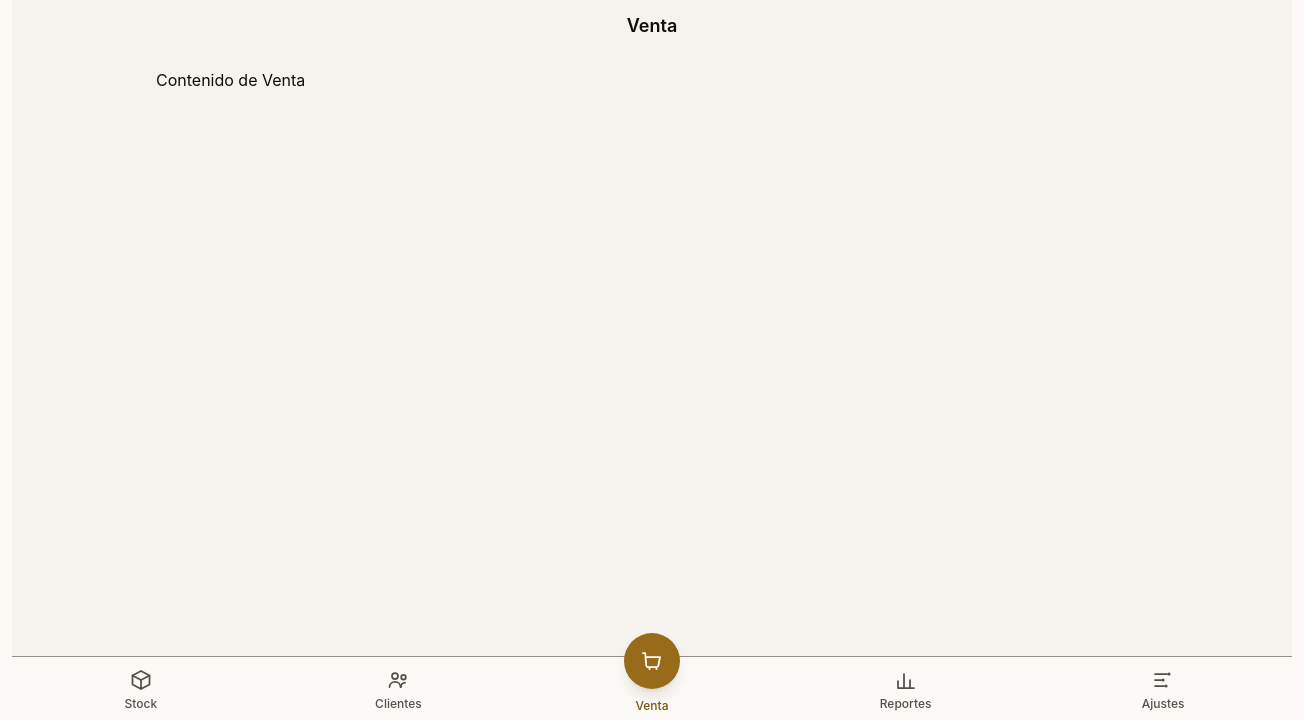
Scenario: Shell › tocar un tab navega a su ruta
The image size is (1304, 720).
Click the button "Stock" at (141,688), box [12,657,270,719]
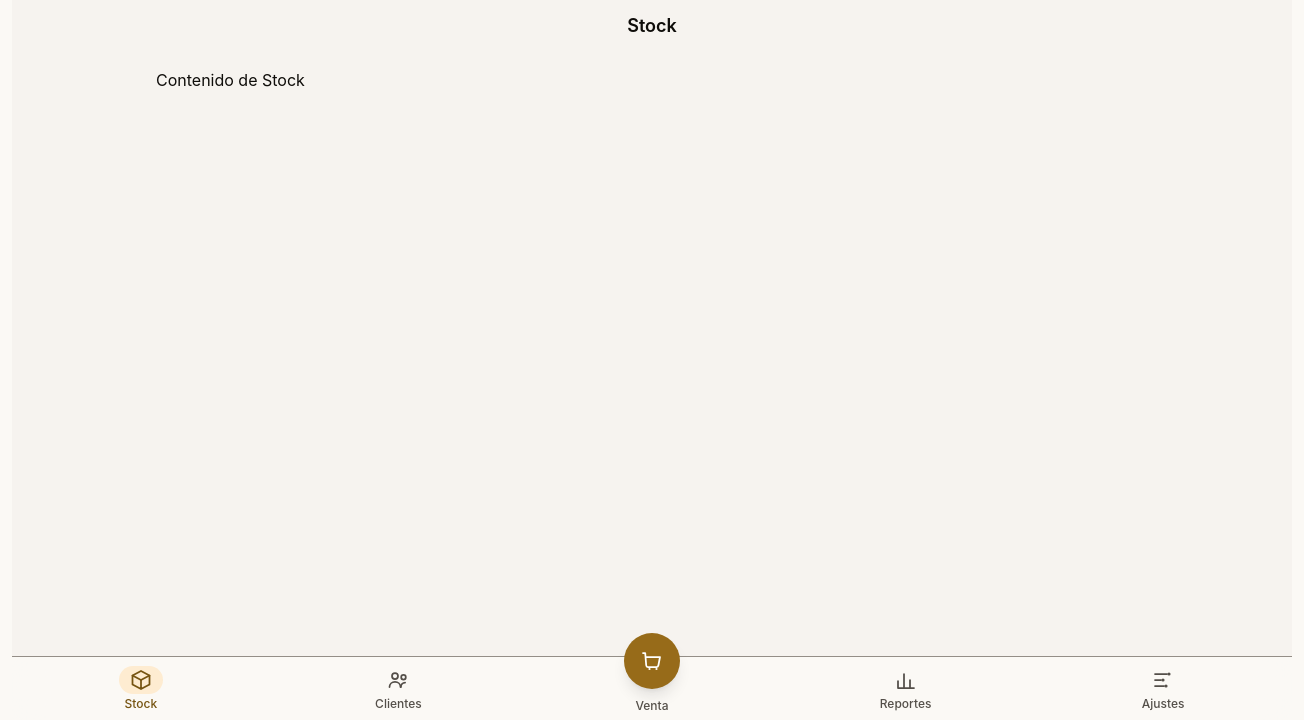
Check: the text "Contenido de Stock" is shown, box [156,70,305,90]
